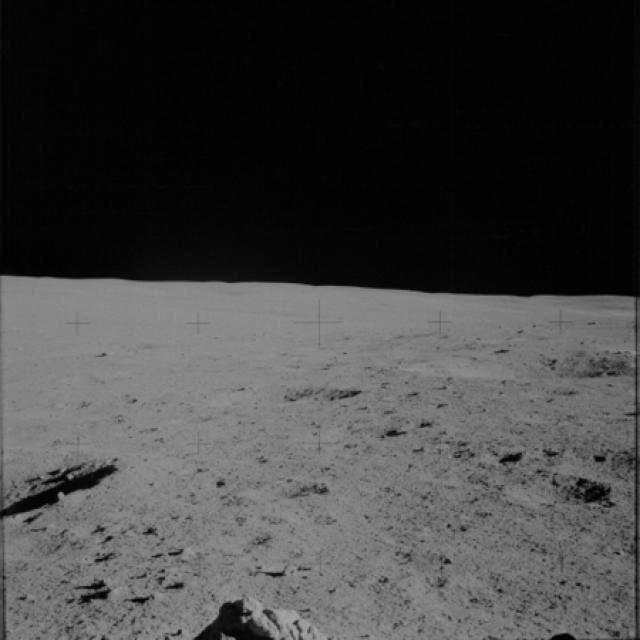crater: (0, 440, 132, 544), (384, 346, 639, 384), (200, 368, 338, 418), (502, 462, 614, 515), (235, 469, 340, 505), (202, 522, 282, 560), (461, 439, 537, 473), (314, 376, 374, 408), (60, 366, 135, 388)
rock: (195, 590, 351, 639), (90, 564, 124, 603), (387, 413, 417, 437), (146, 586, 166, 607), (166, 574, 188, 590)
